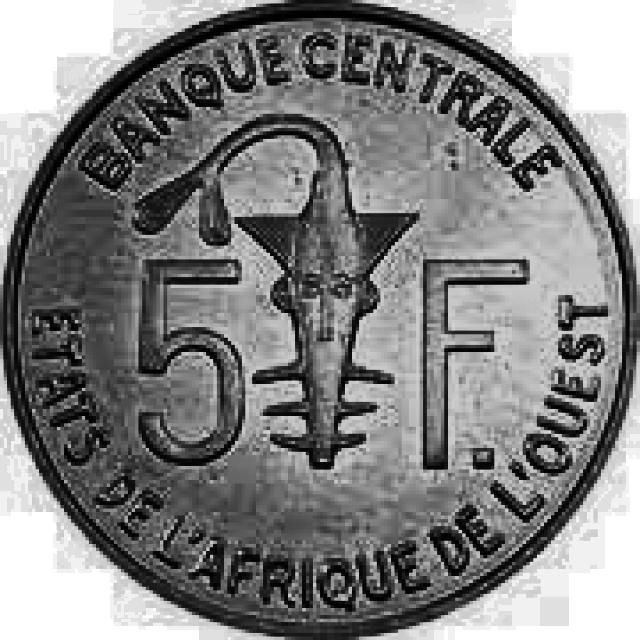derem: (5, 5, 630, 630)
